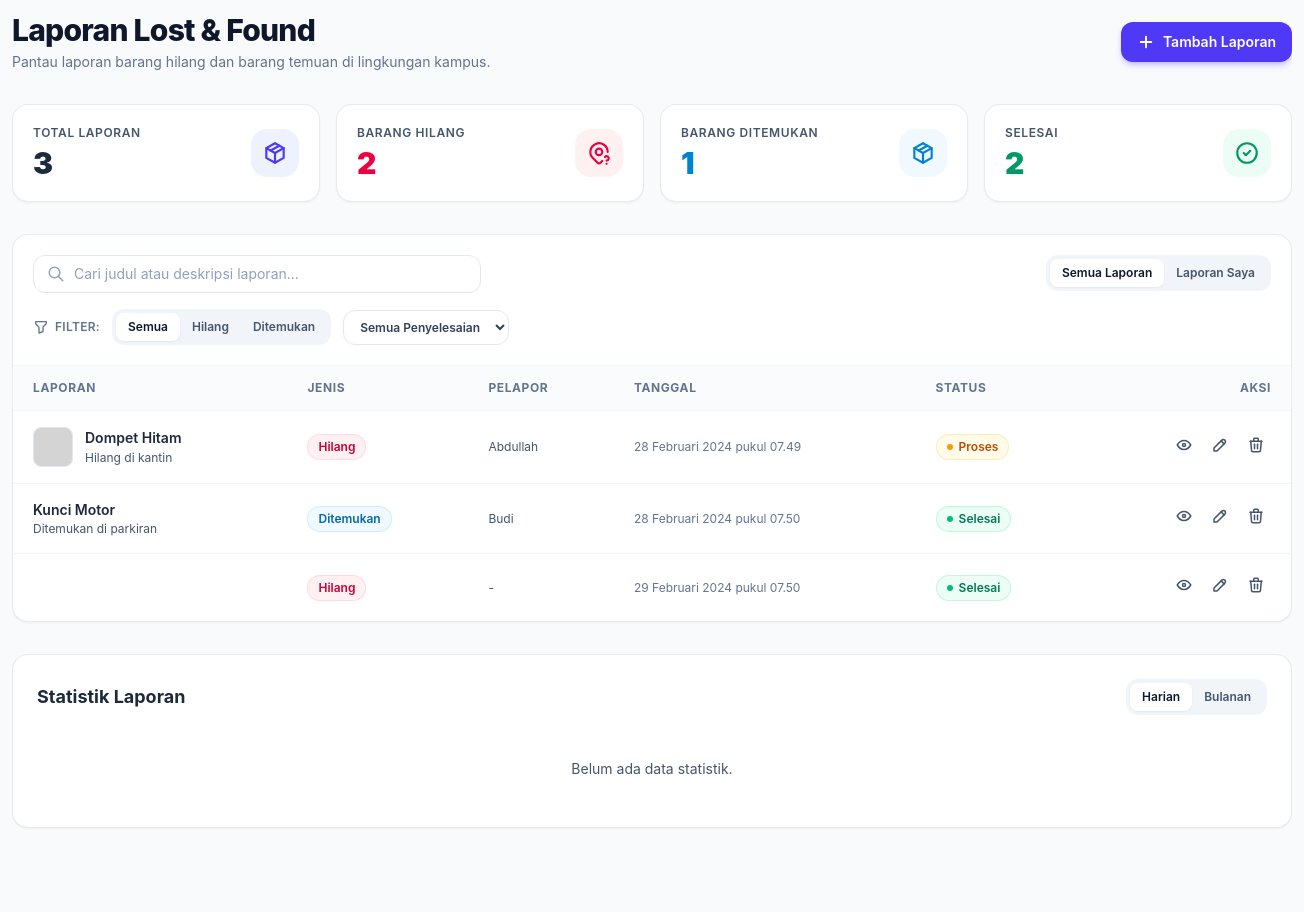
Scenario: HomePage › should filter by report type and completion status
The width and height of the screenshot is (1304, 912).
Click the button with test id "filter-status-found-btn" at (284, 327), box [241,313,327,341]
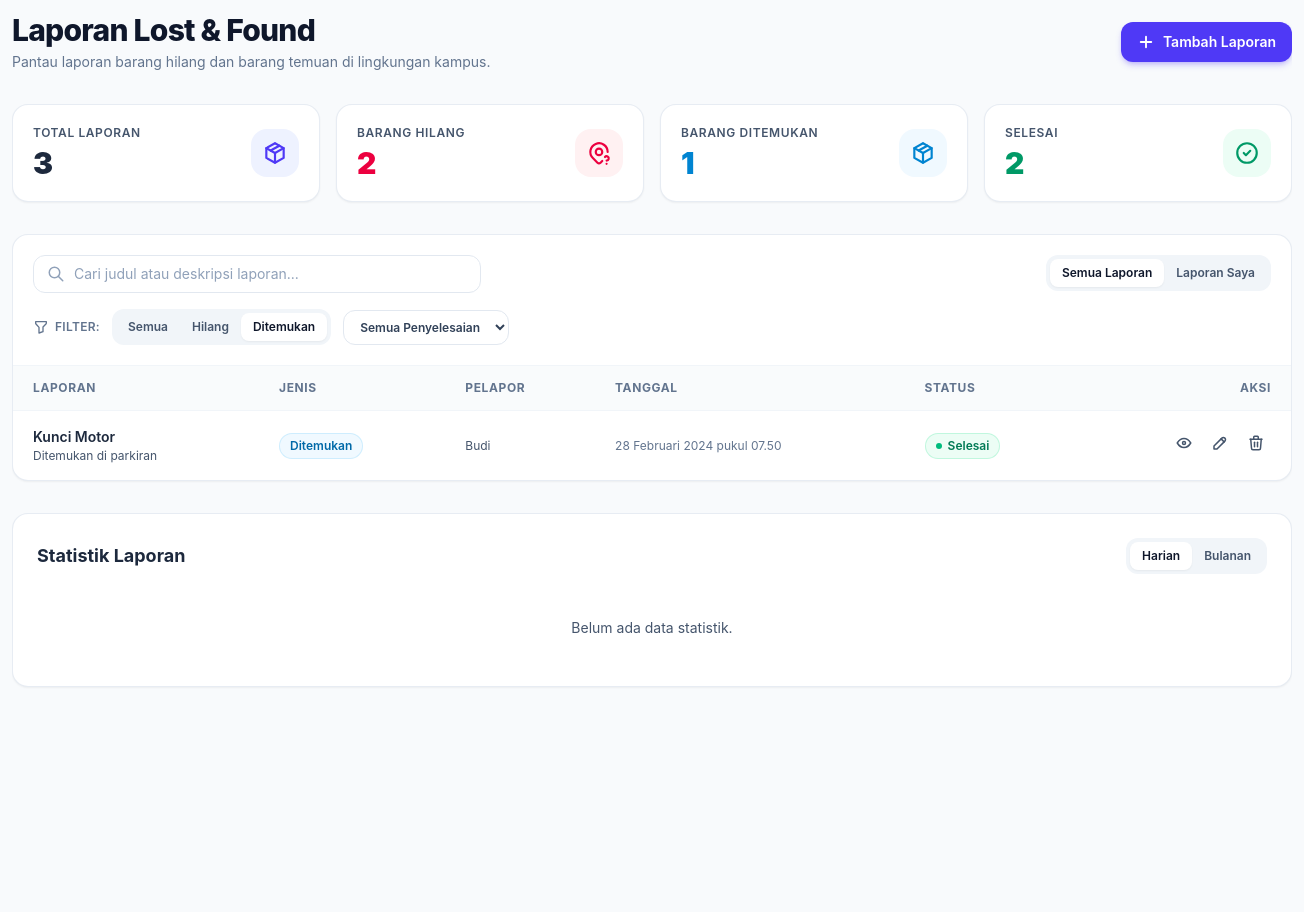
expect the row with test id "lost-found-row-2" is shown: met, box [13,410,1291,480]
expect the row with test id "lost-found-row-1" is gone: met
Click the button with test id "filter-status-lost-btn" at (210, 327), box [180,313,241,341]
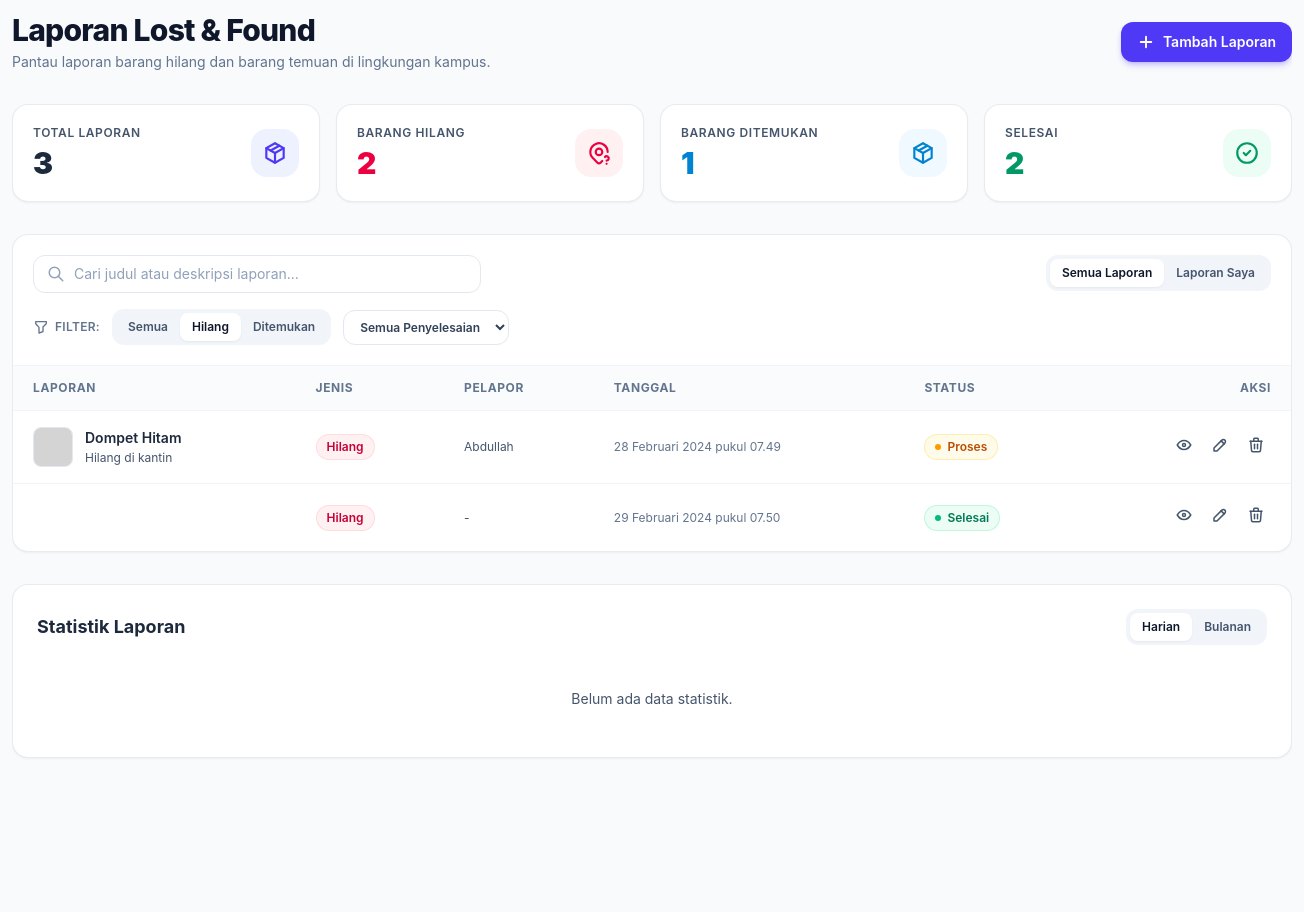
expect the row with test id "lost-found-row-1" is shown: met, box [13,410,1291,484]
expect the row with test id "lost-found-row-2" is gone: met
Click the button with test id "filter-status-all-btn" at (148, 327), box [116,313,180,341]
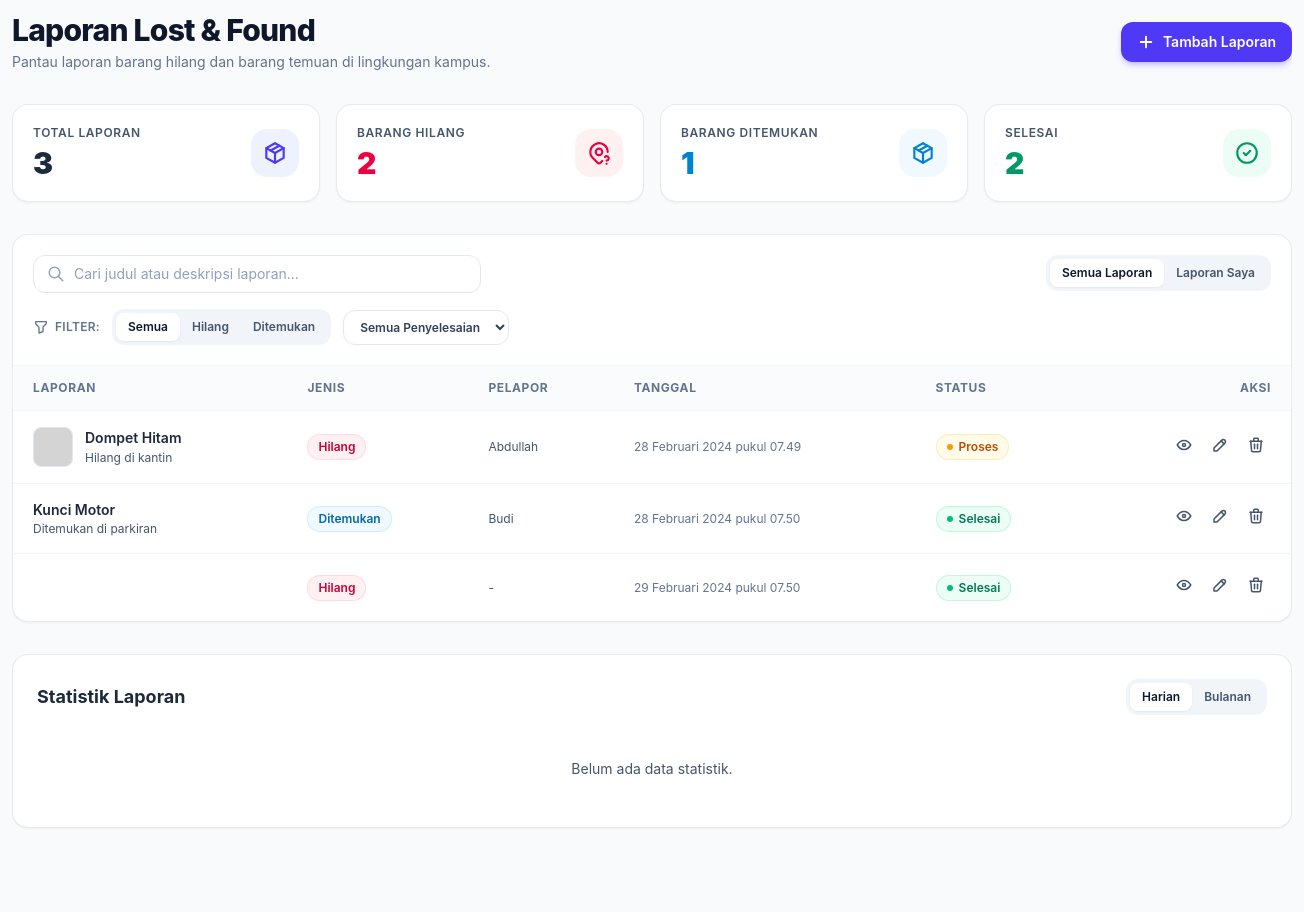
Select "Sudah Selesai" in the dropdown with test id "filter-completed-select" at (426, 327), box [343,310,509,344]
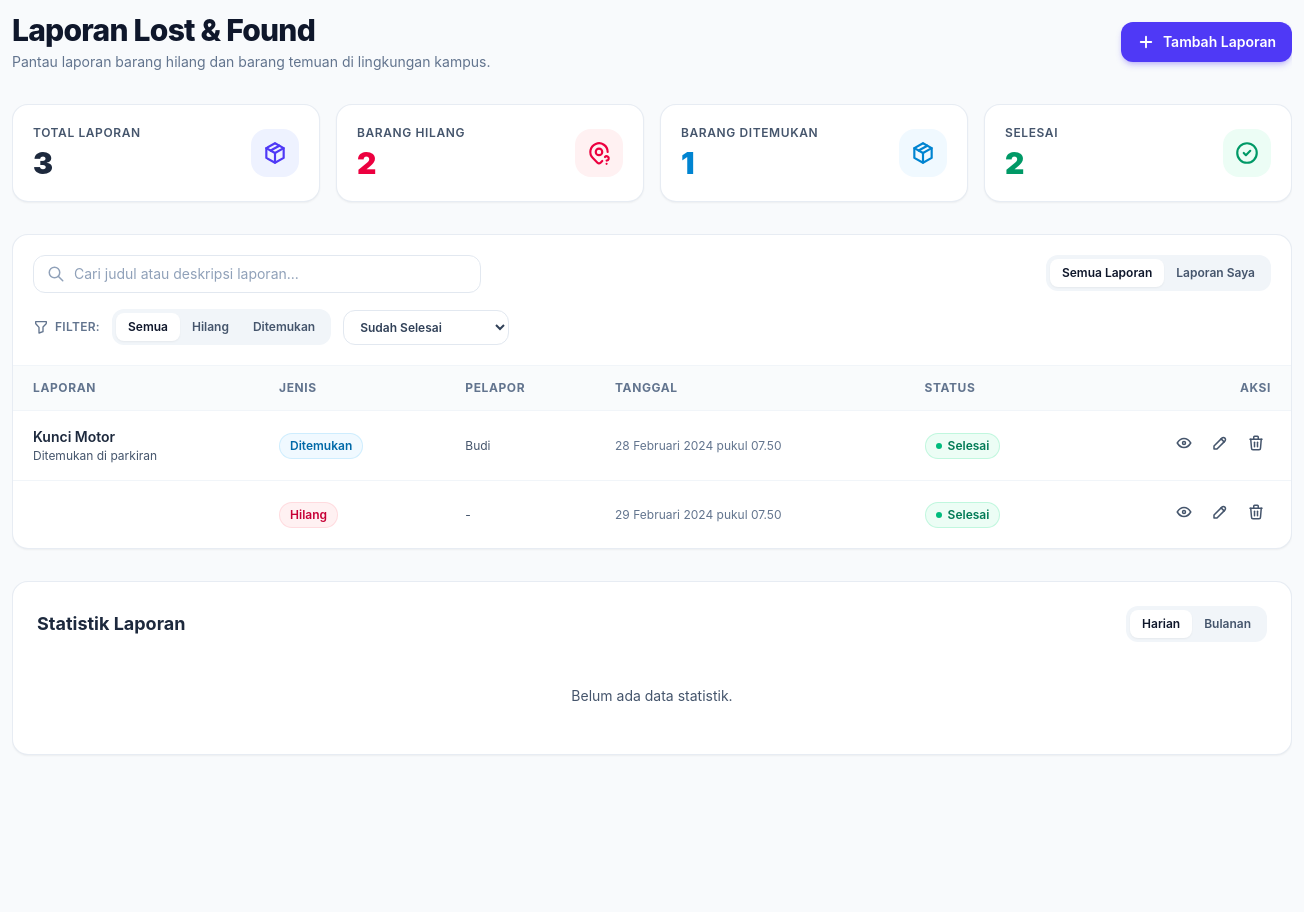
expect the row with test id "lost-found-row-2" is shown: met, box [13,410,1291,481]
expect the row with test id "lost-found-row-1" is gone: met
Select "Belum Selesai" in the dropdown with test id "filter-completed-select" at (426, 327), box [343,310,509,344]
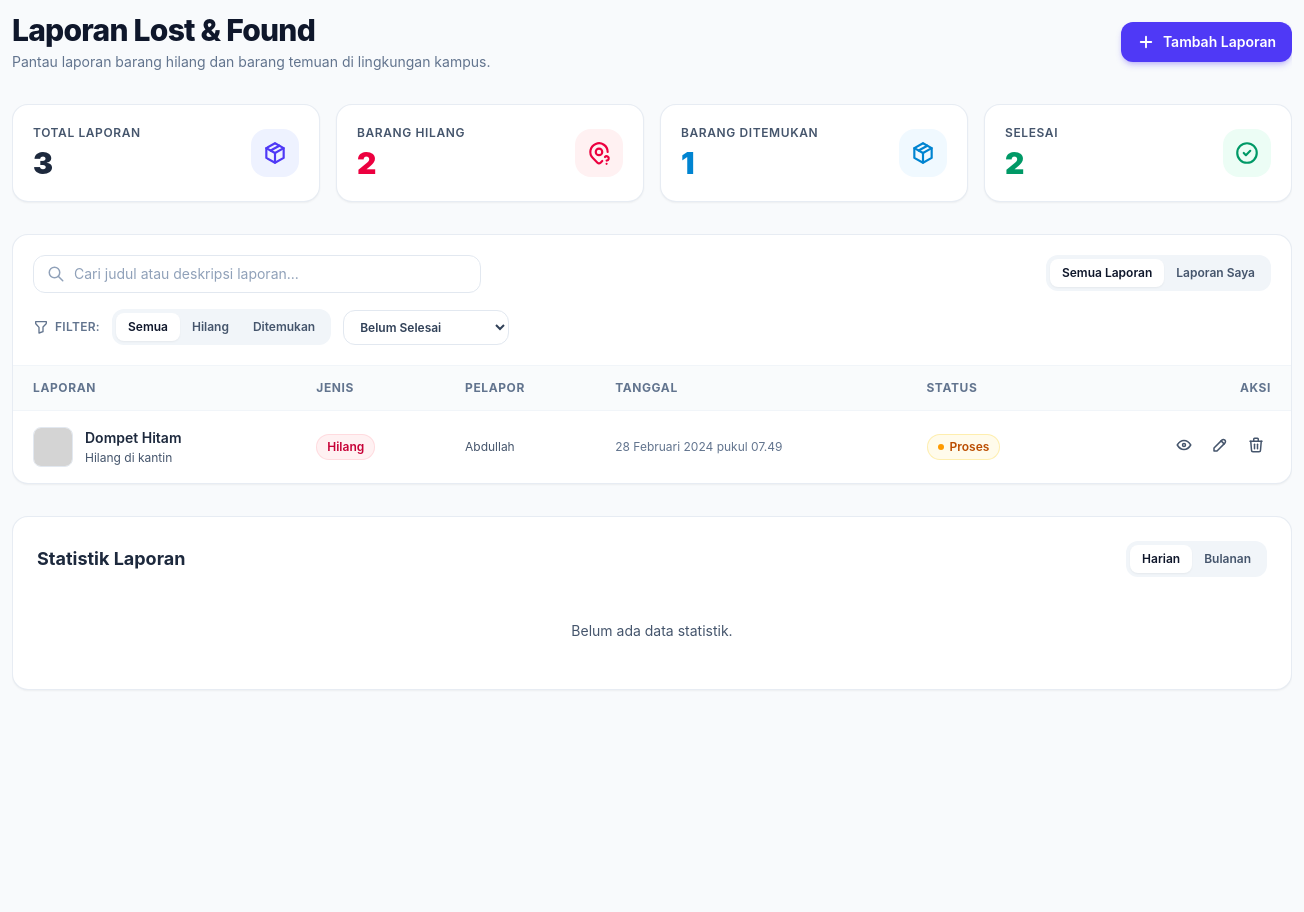
expect the row with test id "lost-found-row-1" is shown: met, box [13,410,1291,483]
expect the row with test id "lost-found-row-2" is gone: met
